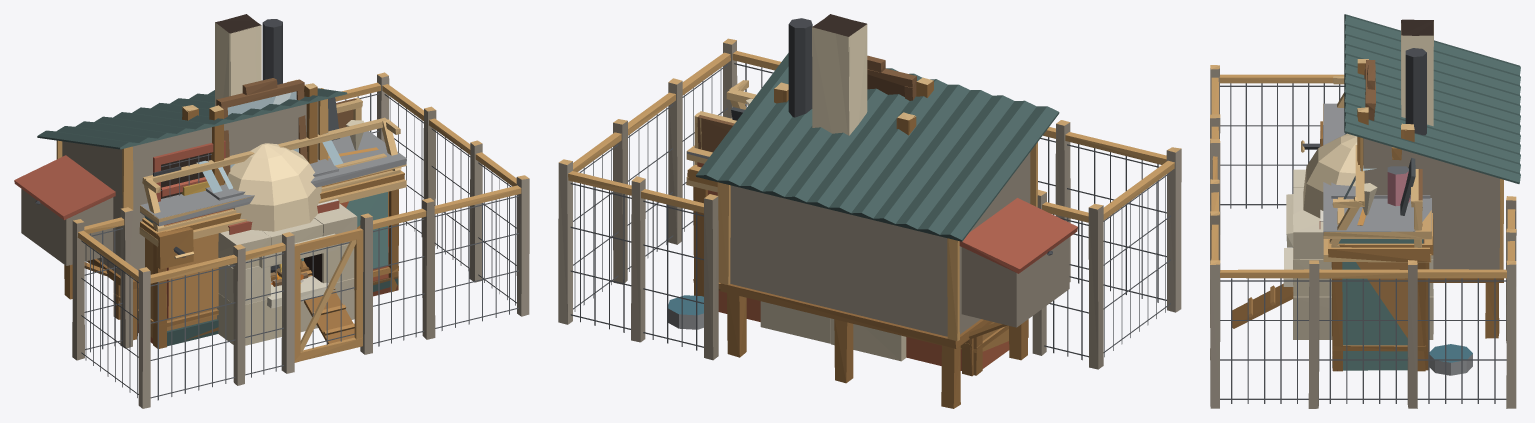
Rendered from aubrune-meubles.glb.
3 views of the same model, side by side, from view 1: azimuth 30°, elevation 25°; view 2: azimuth 150°, elevation 25°; view 3: azimuth 270°, elevation 25° (orthographic). The views are drawn at different scales.
Visible parts, largest first — view 1: poulailler, four, comptoir, comptoir-fournil, etabli, miroir, comptoir-epicerie, four-bare, comptoir-mercerie, cuisiniere, comptoir-cafe, etal; view 2: poulailler, four, four-bare, cuisiniere, comptoir-fournil, comptoir-mercerie, miroir, plan-de-travail, etabli; view 3: poulailler, four, comptoir-epicerie, etabli, comptoir-fournil, comptoir, cuisiniere, four-bare, miroir, plan-de-travail, comptoir-mercerie, comptoir-cafe.
Boxes of the visible parts, box(x1,y1,x2,y2) form: poulailler: box(14, 72, 529, 408); four: box(215, 14, 357, 345); comptoir: box(138, 97, 406, 338); comptoir-fournil: box(139, 97, 406, 339); etabli: box(113, 170, 404, 348); miroir: box(209, 78, 317, 185); comptoir-epicerie: box(140, 120, 398, 346); four-bare: box(215, 21, 261, 106); comptoir-mercerie: box(138, 153, 406, 343); cuisiniere: box(262, 19, 282, 84); comptoir-cafe: box(205, 159, 338, 200); etal: box(228, 199, 339, 234); poulailler: box(558, 38, 1181, 408); four: box(760, 19, 906, 361); four-bare: box(823, 14, 867, 135); cuisiniere: box(788, 18, 812, 117); comptoir-fournil: box(686, 80, 756, 192); comptoir-mercerie: box(686, 152, 1009, 370); miroir: box(867, 55, 933, 100); plan-de-travail: box(688, 164, 973, 376); etabli: box(687, 165, 1028, 375); poulailler: box(1210, 14, 1520, 408); four: box(1283, 20, 1433, 339); comptoir-epicerie: box(1323, 166, 1431, 370); etabli: box(1301, 121, 1430, 371); comptoir-fournil: box(1323, 75, 1431, 337); comptoir: box(1323, 103, 1431, 356); cuisiniere: box(1405, 48, 1426, 135); four-bare: box(1401, 19, 1433, 125); miroir: box(1357, 59, 1375, 164); plan-de-travail: box(1338, 213, 1433, 370); comptoir-mercerie: box(1323, 104, 1431, 371); comptoir-cafe: box(1331, 134, 1430, 198).
Bounding box in the file's own units: 2.97 × 1.95 × 1.95.
